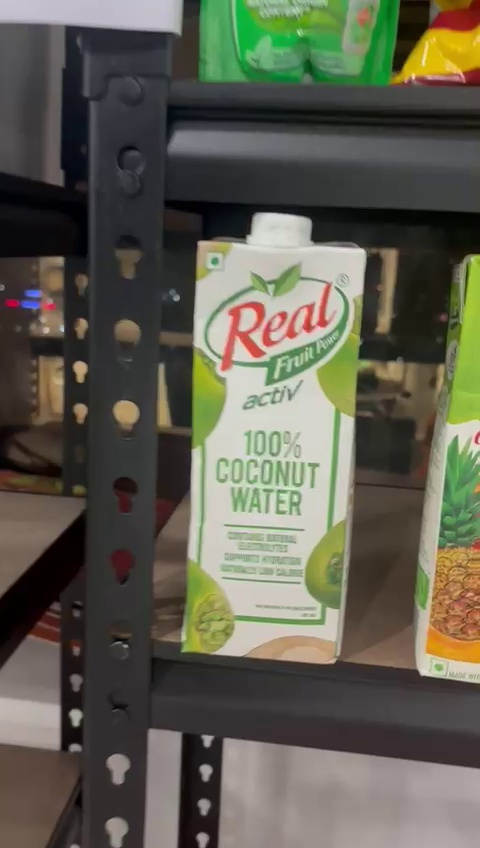Coconut water: (186, 214, 351, 664)
